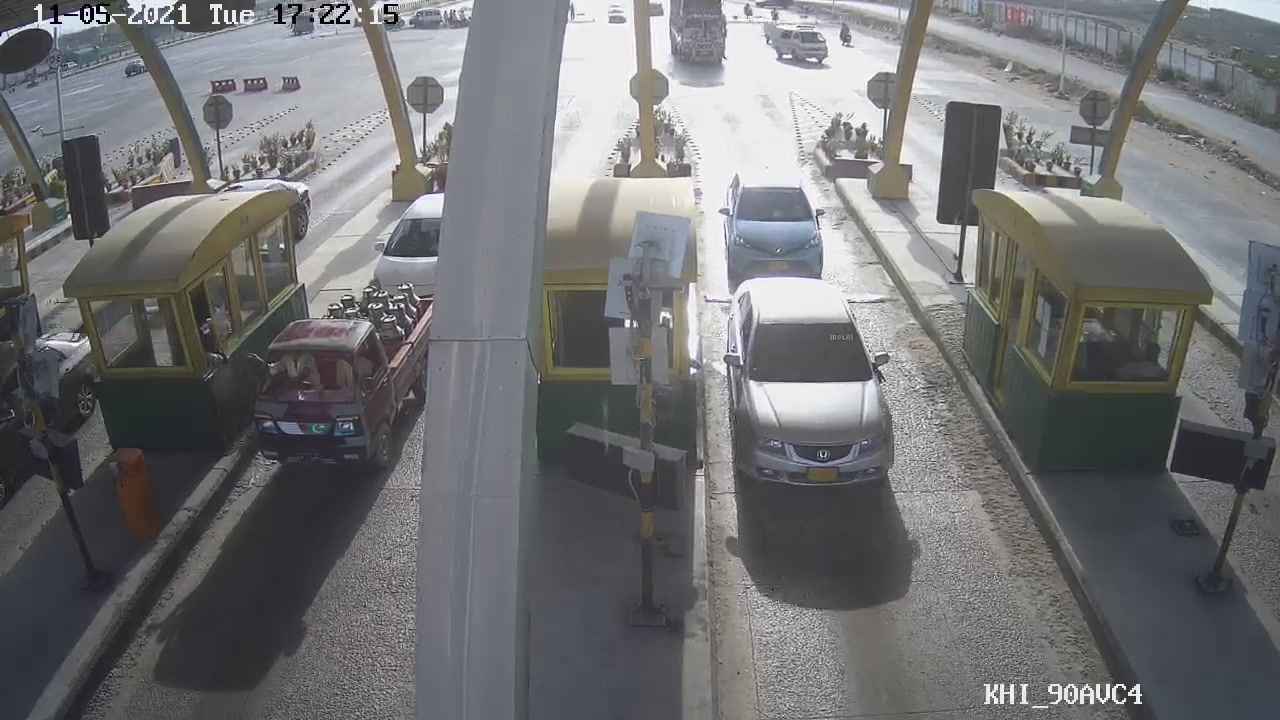F1: (721, 273, 908, 496)
